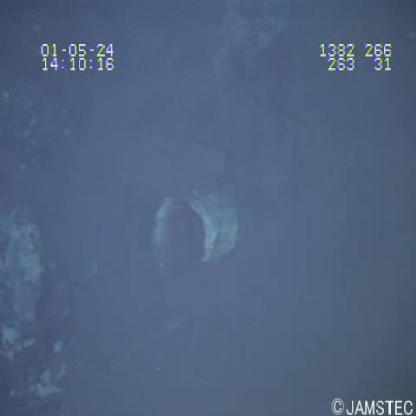Rác: (150, 186, 245, 274)
